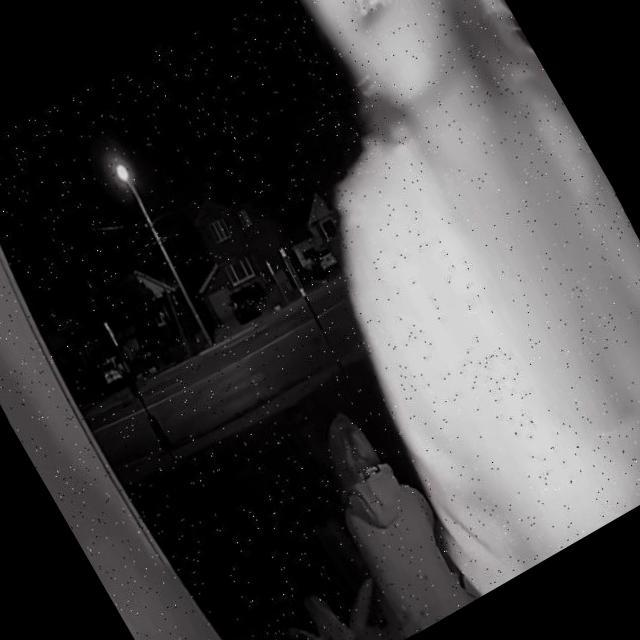person: (163, 0, 640, 596), (292, 396, 487, 640)
